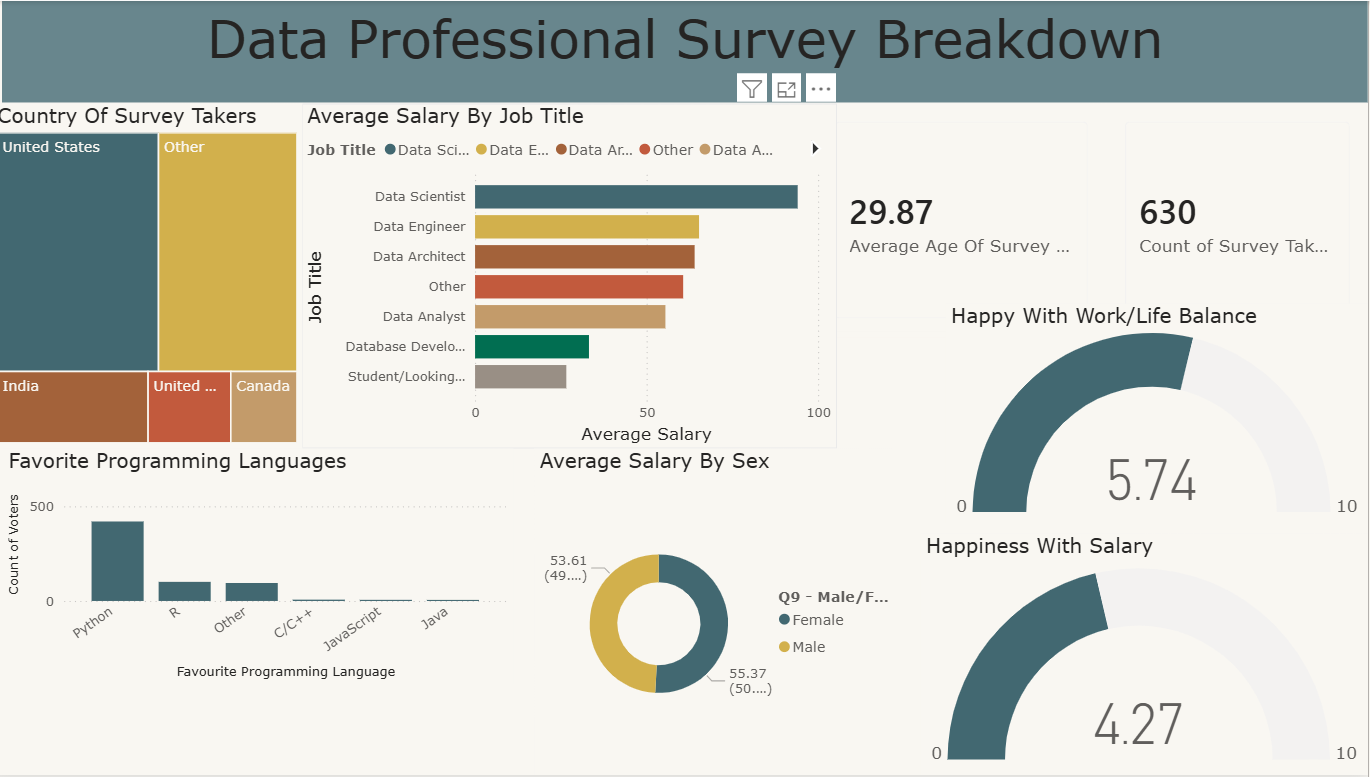

The dashboard page shown, as its layout file describes it:
{"tool":"powerbi","page":{"name":"Page 1","canvas":[1280,720],"ordinal":0},"visuals":[{"type":"textbox","box":[9.6,0,1270.7,94.7],"z":0},{"type":"cardVisual","fields":{"Data":["Count(Data Professional Survey.Unique ID)"]},"box":[1036.9,95.2,243.4,217.7],"z":1000},{"type":"cardVisual","fields":{"Data":["Avg(Data Professional Survey.Q10 - Current Age)"]},"box":[767.9,95.2,269.1,217.7],"z":2000},{"type":"barChart","title":"Average Salary By Job Title","fields":{"Category":["Data Professional Survey.Q1 - Which Title Best Fits your Current Role?.1"],"Y":["Avg(Data Professional Survey.Average Salary)"],"Series":["Data Professional Survey.Q1 - Which Title Best Fits your Current Role?.1"]},"box":[288.9,94.8,497.3,320.9],"z":3000},{"type":"clusteredColumnChart","title":"Favorite Programming Languages","fields":{"Category":["Data Professional Survey.Q5 - Favorite Programming Language.1"],"Y":["CountNonNull(Data Professional Survey.Unique ID)"]},"box":[9.9,415.7,474.2,219.4],"z":4000},{"type":"treemap","title":"Country Of Survey Takers","fields":{"Group":["Data Professional Survey.Q11 - Which Country do you live in?.1"],"Values":["CountNonNull(Data Professional Survey.Q11 - Which Country do you live in?.1)"]},"box":[0,94.8,288.9,320.9],"z":5000},{"type":"gauge","title":"Happy With Work/Life Balance","fields":{"Y":["Avg(Data Professional Survey.Q6 - How Happy are you in your Current Position with the following? (Work/Life Balance))"],"MinValue":["Min(Data Professional Survey.Q6 - How Happy are you in your Current Position with the following? (Work/Life Balance))"],"MaxValue":["Max(Data Professional Survey.Q6 - How Happy are you in your Current Position with the following? (Work/Life Balance))"]},"box":[886.8,281.5,393.5,204.3],"z":6000},{"type":"gauge","title":"Happiness With Salary","fields":{"Y":["Avg(Data Professional Survey.Q6 - How Happy are you in your Current Position with the following? (Salary))"],"MinValue":["Min(Data Professional Survey.Q6 - How Happy are you in your Current Position with the following? (Salary))"],"MaxValue":["Max(Data Professional Survey.Q6 - How Happy are you in your Current Position with the following? (Salary))"]},"box":[864.1,494.9,416.2,225.5],"z":7000},{"type":"donutChart","title":"Average Salary By Sex","fields":{"Category":["Data Professional Survey.Q9 - Male/Female?"],"Y":["Avg(Data Professional Survey.Average Salary)"]},"box":[504.5,416.2,336.8,304],"z":7001}]}

Visuals, with their boxes in screenshot pixels (x1, y1, x2, y2), scaled from the page's 1280x720 canvas onto the 1370x777 screenshot:
textbox: {"left": 10, "top": 0, "right": 1369, "bottom": 102}
cardVisual - Count(Data Professional Survey.Unique ID): {"left": 1110, "top": 103, "right": 1369, "bottom": 338}
cardVisual - Avg(Data Professional Survey.Q10 - Current Age): {"left": 822, "top": 103, "right": 1110, "bottom": 338}
"Average Salary By Job Title" barChart: {"left": 309, "top": 102, "right": 841, "bottom": 449}
"Favorite Programming Languages" clusteredColumnChart: {"left": 11, "top": 449, "right": 518, "bottom": 685}
"Country Of Survey Takers" treemap: {"left": 0, "top": 102, "right": 309, "bottom": 449}
"Happy With Work/Life Balance" gauge: {"left": 949, "top": 304, "right": 1369, "bottom": 524}
"Happiness With Salary" gauge: {"left": 925, "top": 534, "right": 1369, "bottom": 776}
"Average Salary By Sex" donutChart: {"left": 540, "top": 449, "right": 900, "bottom": 776}
